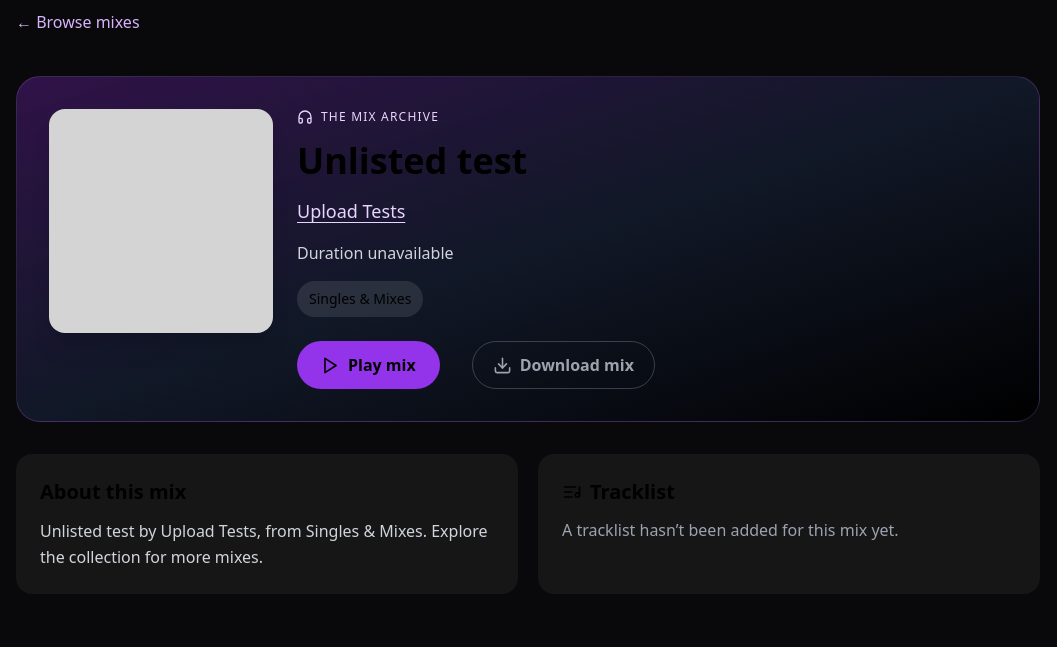
Test: does not fall back to Backblaze when a permitted download is not cached
This screenshot has width=1057, height=647.
Click the button "Download mix": point(563, 365) [472,341,655,389]
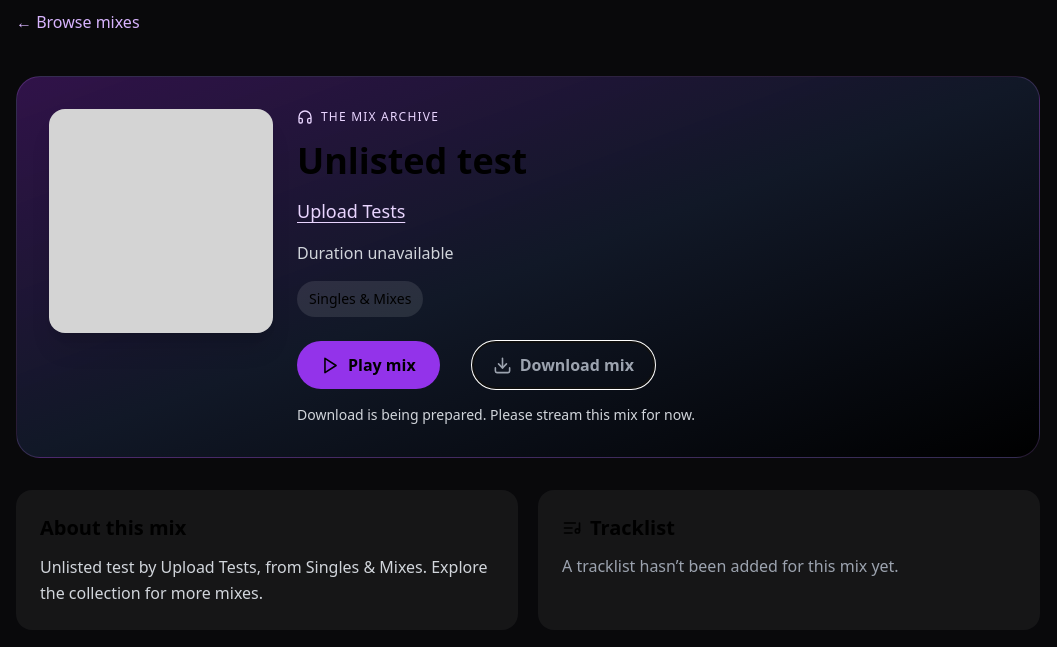
Expected: the message shows "Download is being prepared", [297,405,695,424]
